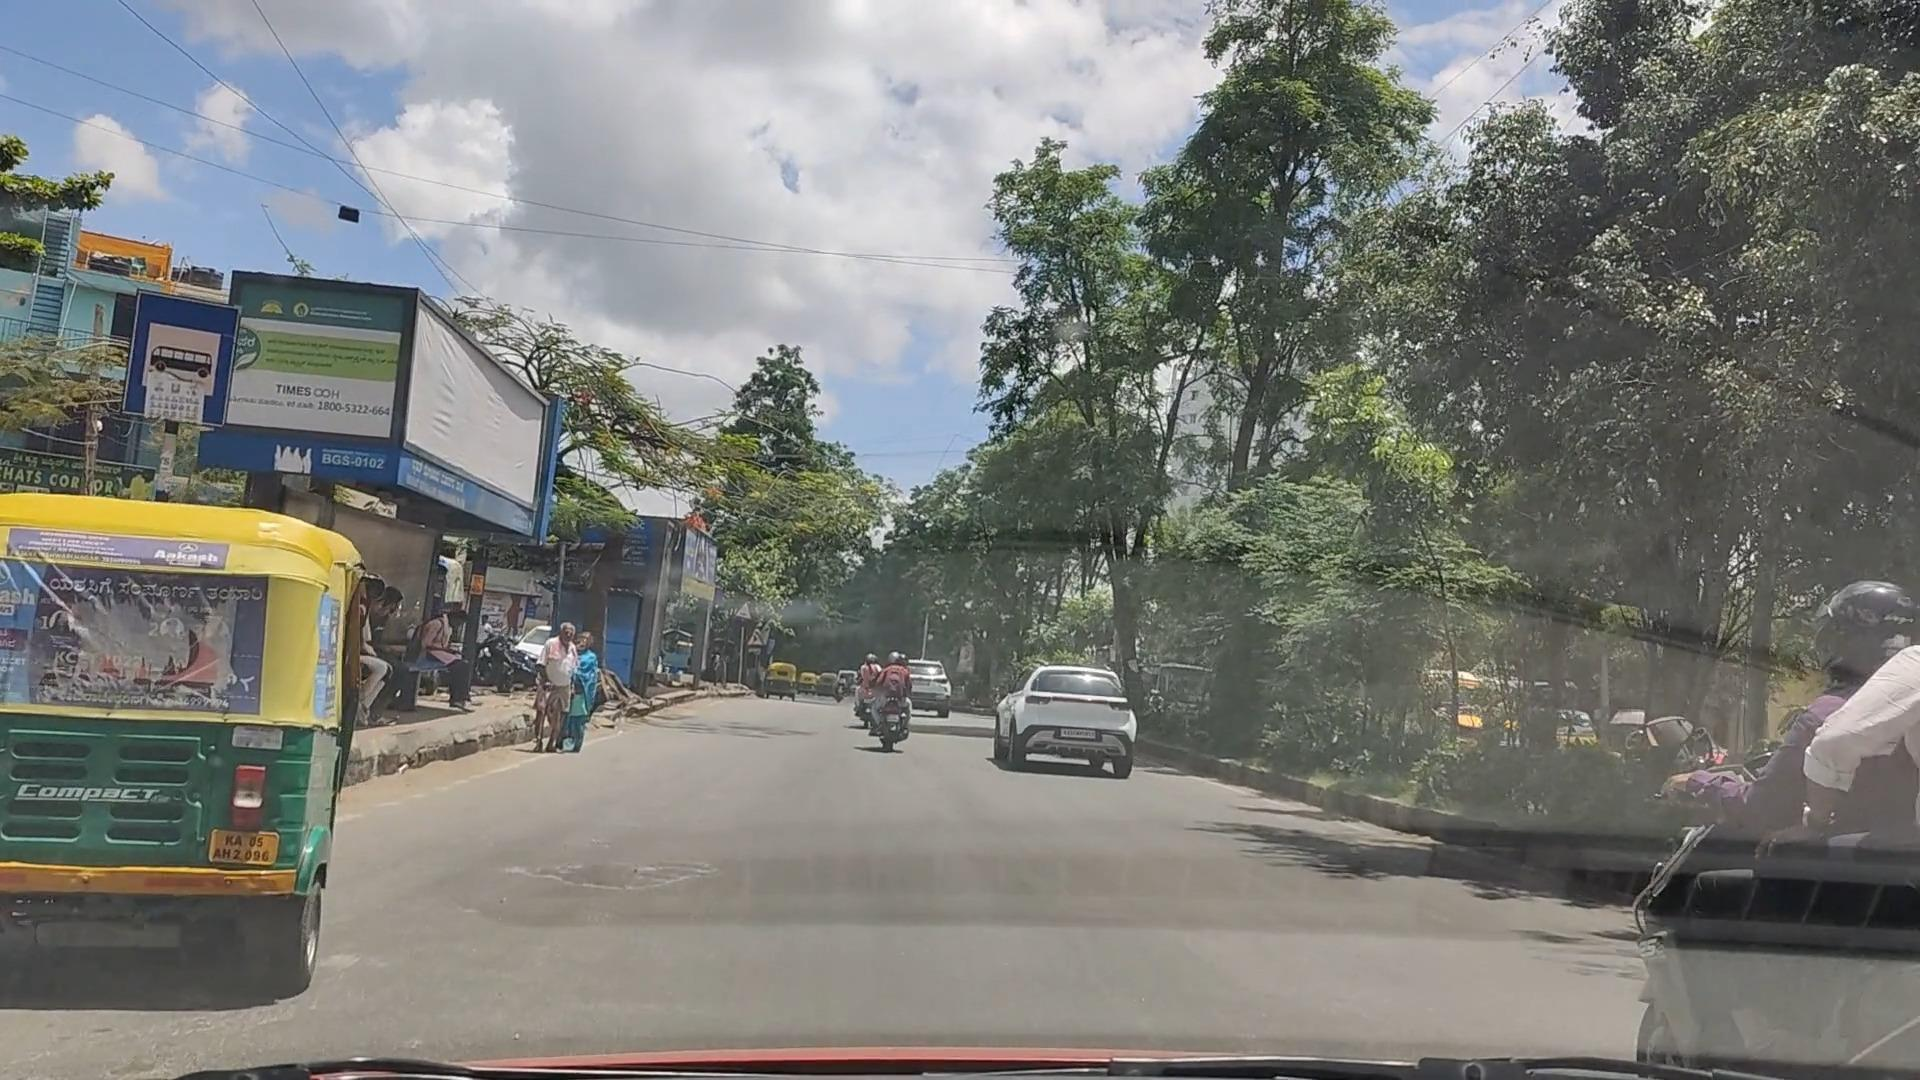LMV: (0, 493, 375, 978), (1002, 658, 1154, 787), (874, 641, 927, 754)
RoadDamages: (498, 844, 741, 903)
